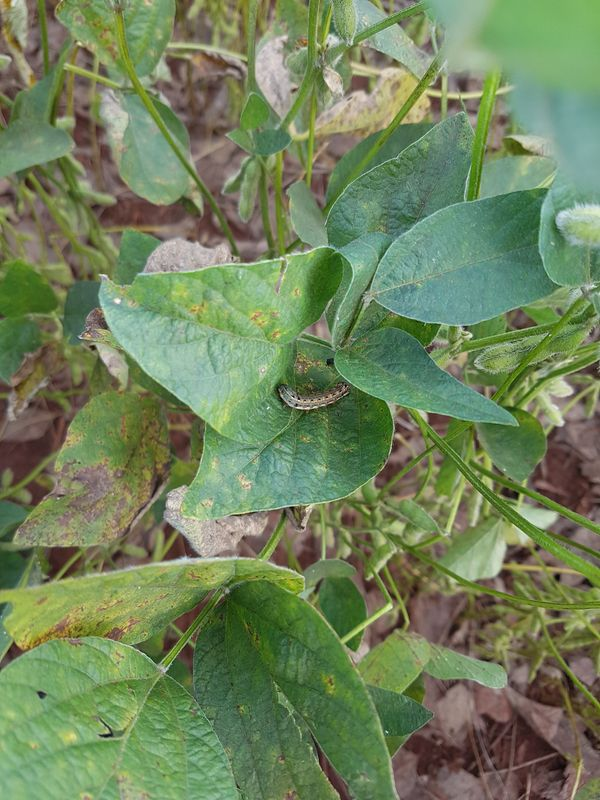Spodoptera_albula: (272, 372, 357, 415)
